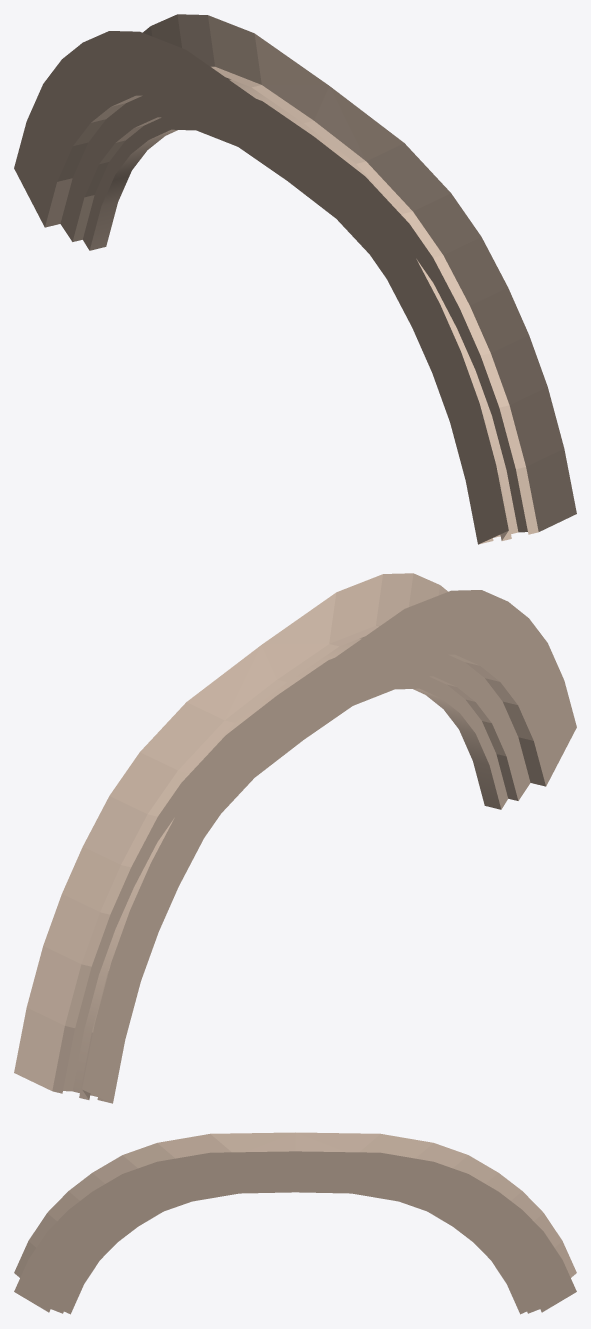
Rendered from BC_InsideceilingFrame_A.fbx.
The picture shows the model from 3 angles, top to bottom: view 1: azimuth 30°, elevation 25°; view 2: azimuth 150°, elevation 25°; view 3: azimuth 270°, elevation 25°; orthographic projection. The views are drawn at different scales.
Parts seen in each view (by area): view 1: BC_InsideceilingFrame_A; view 2: BC_InsideceilingFrame_A; view 3: BC_InsideceilingFrame_A.
Part boxes in pixels (x1,y1,x2,y2): BC_InsideceilingFrame_A: [14, 14, 576, 544]; BC_InsideceilingFrame_A: [14, 573, 576, 1103]; BC_InsideceilingFrame_A: [14, 1132, 576, 1314].
Bounding box in the file's own units: 175 × 733 × 2198.
